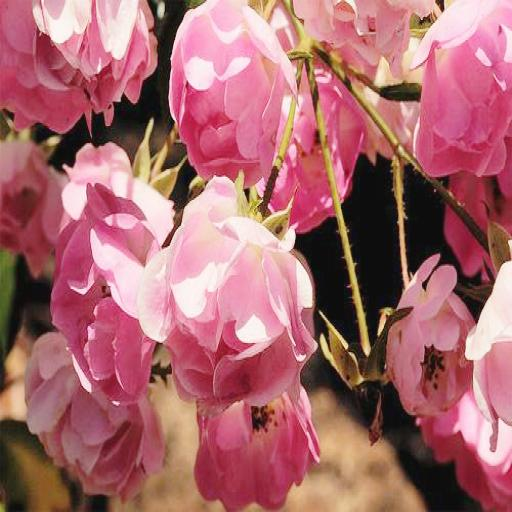rose: (164, 183, 318, 403), (55, 192, 173, 397), (24, 330, 165, 488), (198, 423, 200, 424)
